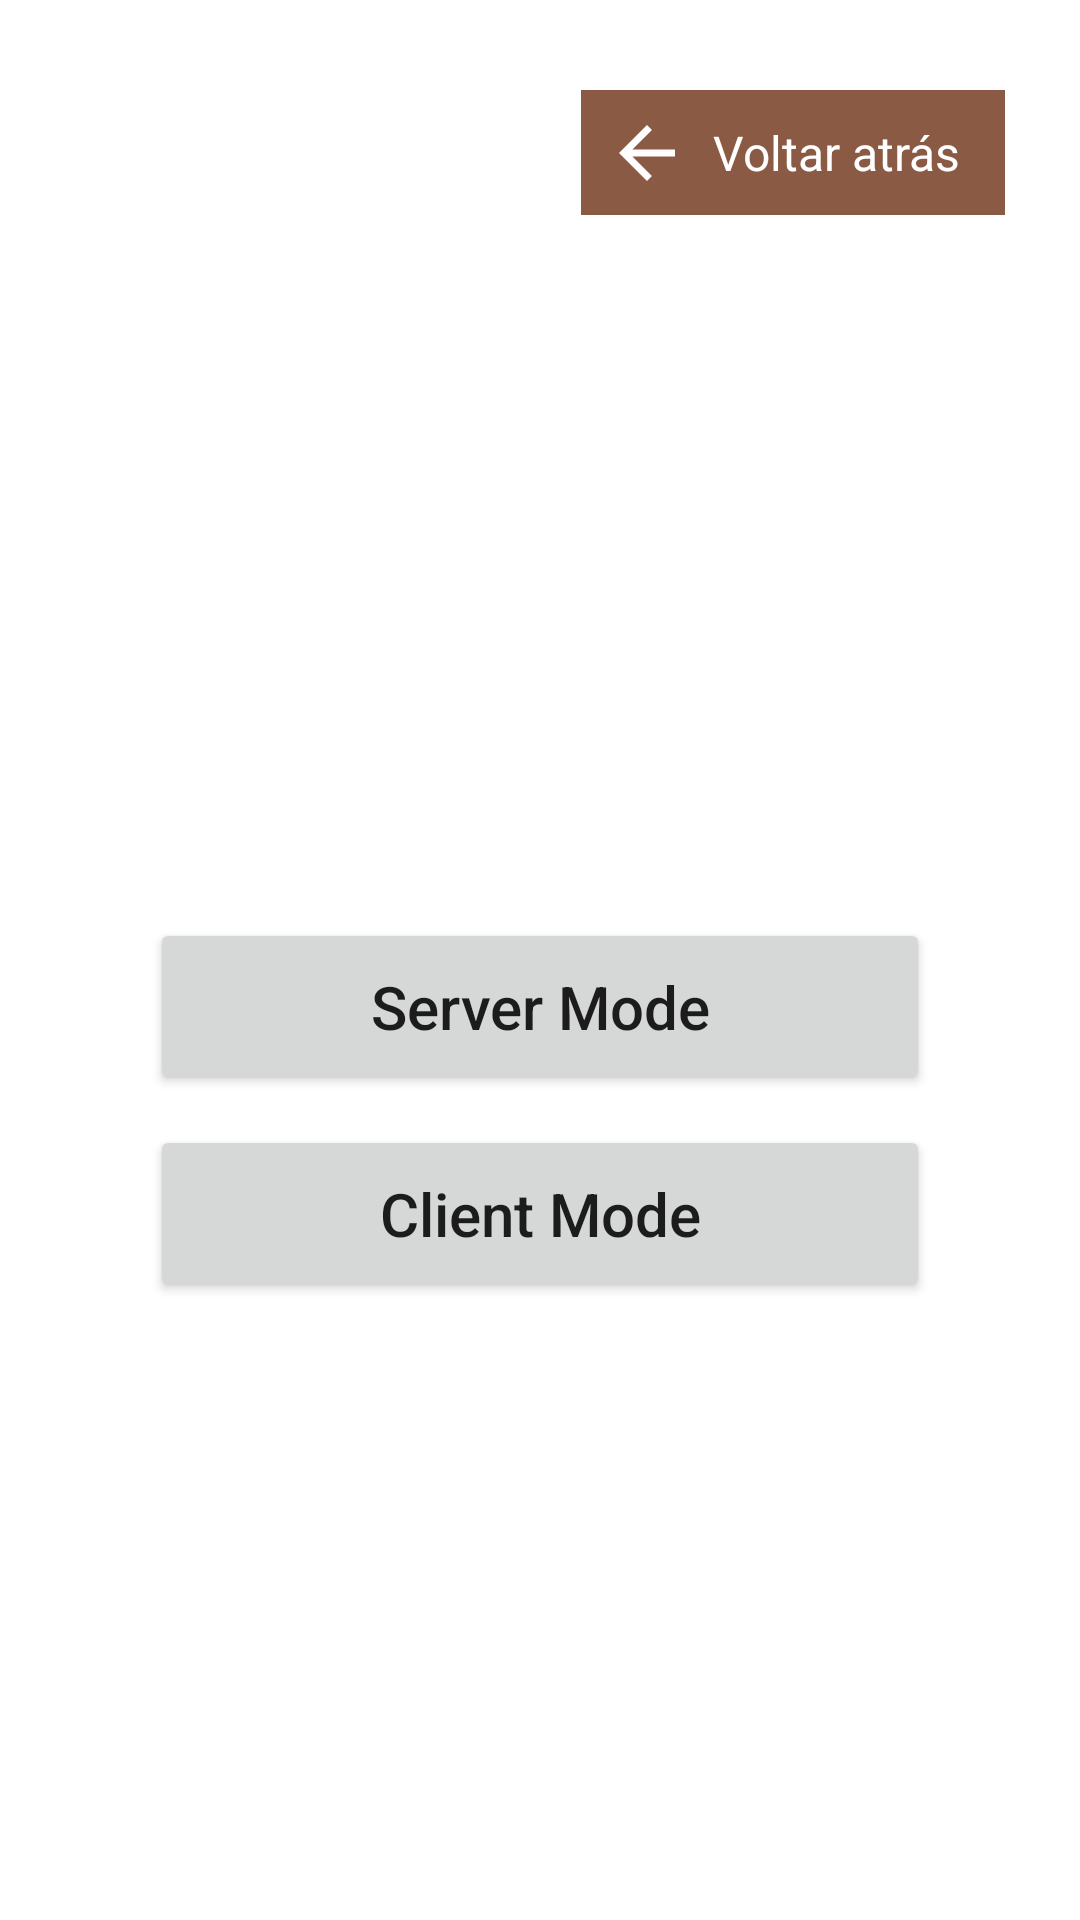

Icons on this 1080x1920 Android screen, each with the point to tap as (x=x, y=y):
seta anterior: (x=647, y=152)
